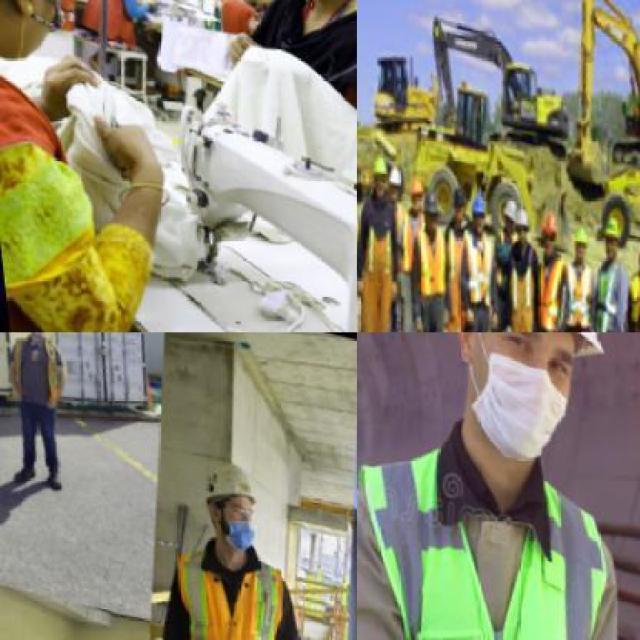Vest: (357, 411, 638, 638), (138, 531, 298, 638), (0, 332, 74, 406), (392, 218, 450, 304), (442, 223, 500, 306), (544, 245, 598, 329), (517, 242, 565, 332), (572, 254, 625, 331), (608, 258, 638, 331)
